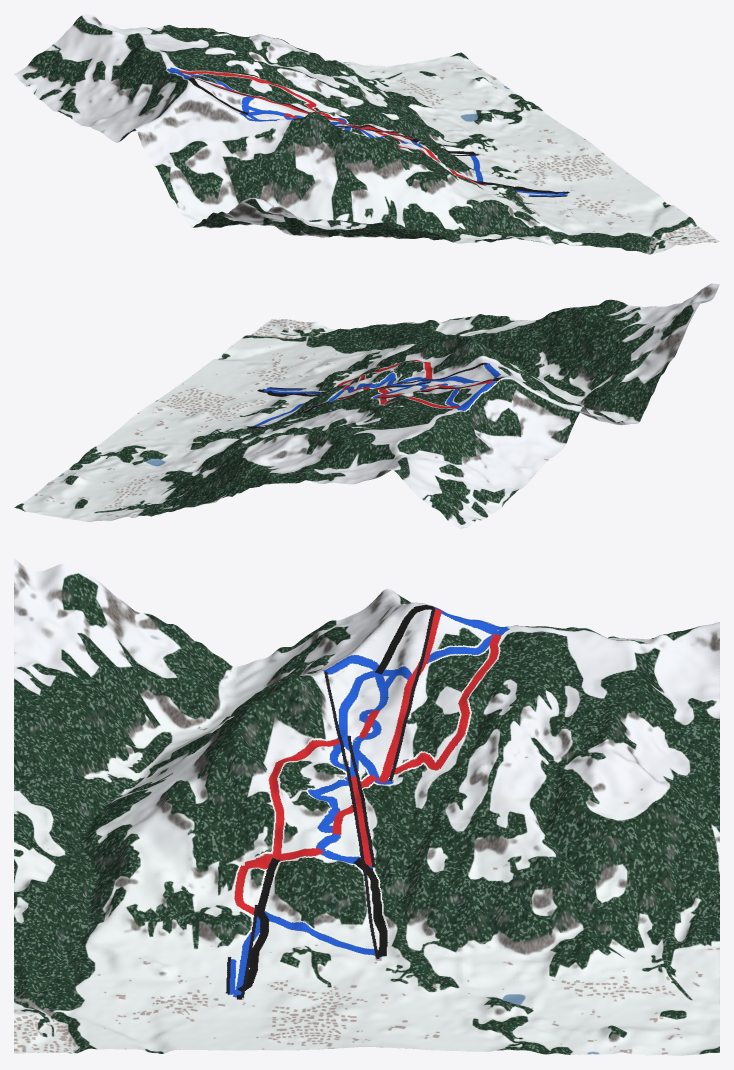
3 renders of one model, top to bottom at view 1: azimuth 30°, elevation 25°; view 2: azimuth 150°, elevation 25°; view 3: azimuth 270°, elevation 25°, orthographic. The views are drawn at different scales.
Visible parts, largest first — view 1: B3_Hoernerbahn.glb; view 2: B3_Hoernerbahn.glb; view 3: B3_Hoernerbahn.glb.
Boxes of the visible parts, x1,y1,x2,y2 form: B3_Hoernerbahn.glb: (14, 14, 719, 254); B3_Hoernerbahn.glb: (14, 283, 719, 529); B3_Hoernerbahn.glb: (14, 558, 719, 1055).
Bounding box in the file's own units: 3330 × 1036 × 3330.
1 material, 1 textured.
